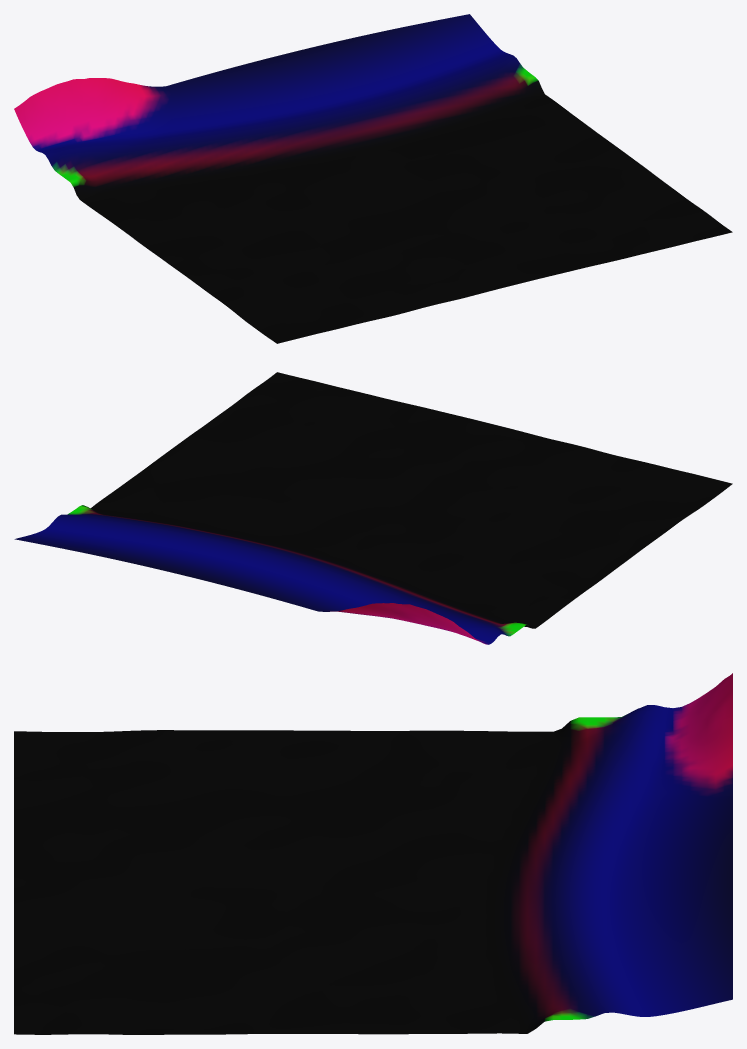
File: SM_FutureCity_Terrain_0_1.fbx
3 renders of one model, top to bottom at view 1: azimuth 30°, elevation 25°; view 2: azimuth 150°, elevation 25°; view 3: azimuth 270°, elevation 25°, orthographic. The views are drawn at different scales.
Visible parts, largest first — view 1: SM_FutureCity_Terrain_0_1; view 2: SM_FutureCity_Terrain_0_1; view 3: SM_FutureCity_Terrain_0_1.
Boxes of the visible parts, x1,y1,x2,y2 form: SM_FutureCity_Terrain_0_1: (14, 14, 732, 343); SM_FutureCity_Terrain_0_1: (14, 372, 732, 644); SM_FutureCity_Terrain_0_1: (14, 673, 732, 1034).
Size of the model in its own units: 50400 by 6143 by 50400.
